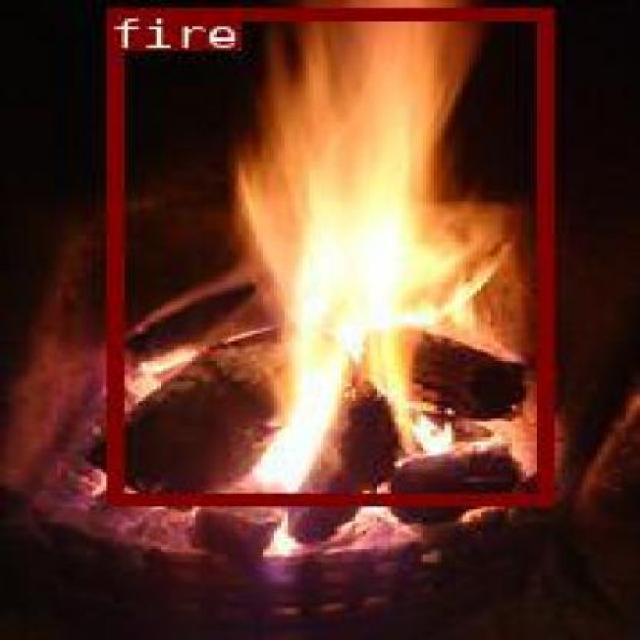Fire: (326, 254, 445, 497)
